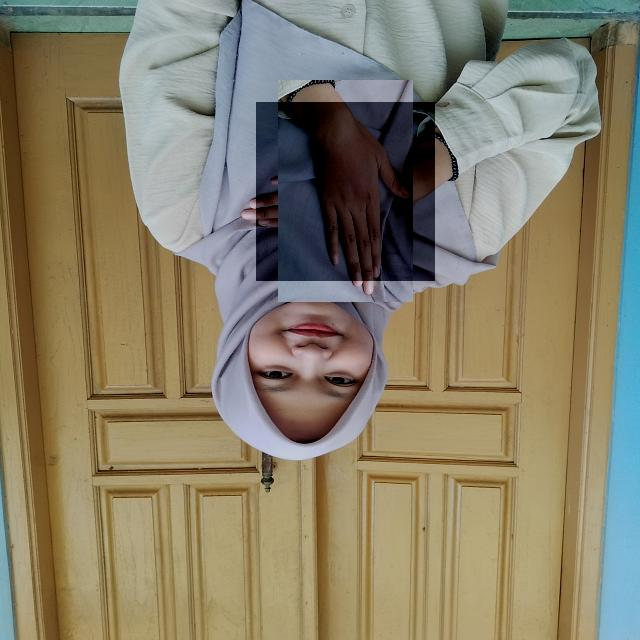tolong: (256, 102, 435, 281)
